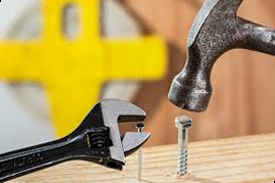wrench: (1, 91, 156, 175)
